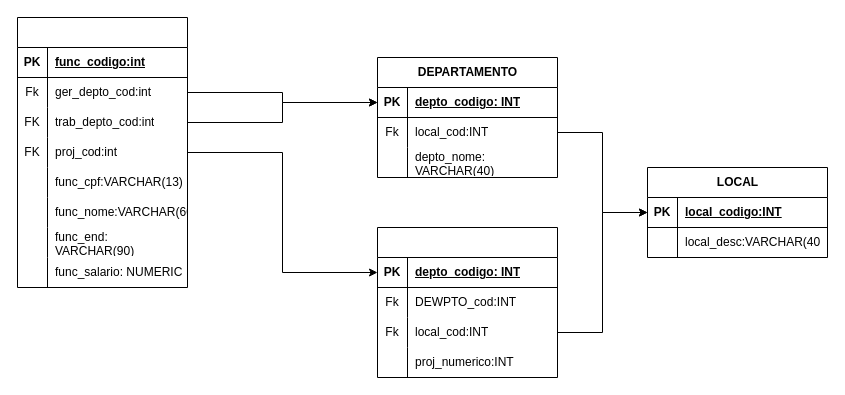
This 845x395 diagram has some shape labels left out. The box of each missing label's shape, as (x1, y1, x2, y2) in pixels:
fUNCIONARIO: (16, 16, 188, 288)
PROJETO: (376, 226, 558, 378)
